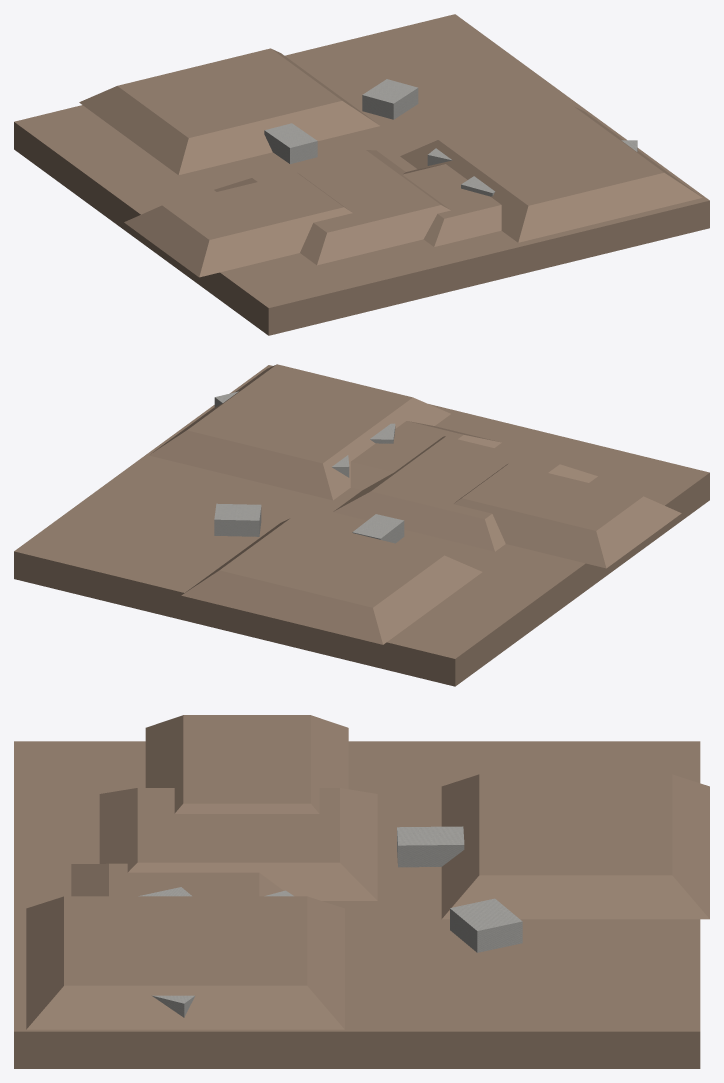
File: andean-terraces-and-stone-village-mountain-ground-modu-138e0113__38227.glb
3 views of the same model, one above another, from view 1: azimuth 30°, elevation 25°; view 2: azimuth 150°, elevation 25°; view 3: azimuth 270°, elevation 25° (orthographic). The views are drawn at different scales.
Parts seen in each view (by area): view 1: mountain-ground-module-dry-grass, mountain-ground-module-dry-earth, mountain-ground-module-dry-stone; view 2: mountain-ground-module-dry-grass, mountain-ground-module-dry-earth, mountain-ground-module-dry-stone; view 3: mountain-ground-module-dry-grass, mountain-ground-module-dry-earth, mountain-ground-module-dry-stone.
Boxes of the visible parts, x1,y1,x2,y2 form: mountain-ground-module-dry-grass: [79, 48, 702, 277]; mountain-ground-module-dry-earth: [14, 14, 709, 335]; mountain-ground-module-dry-stone: [264, 79, 637, 196]; mountain-ground-module-dry-grass: [149, 364, 681, 644]; mountain-ground-module-dry-earth: [14, 365, 709, 686]; mountain-ground-module-dry-stone: [214, 391, 404, 543]; mountain-ground-module-dry-grass: [26, 715, 709, 1029]; mountain-ground-module-dry-earth: [14, 741, 700, 1068]; mountain-ground-module-dry-stone: [138, 826, 522, 1017].
Size of the model in its own units: 4.19 by 0.4243 by 4.06.
2 materials, 1 textured.
